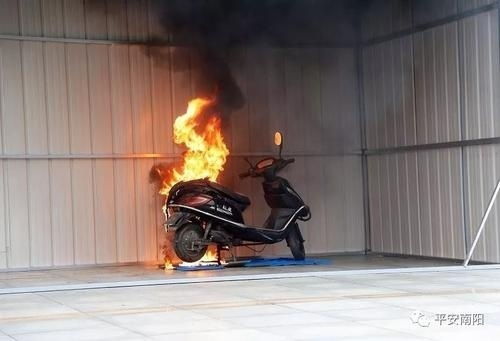fire: (155, 93, 233, 269)
